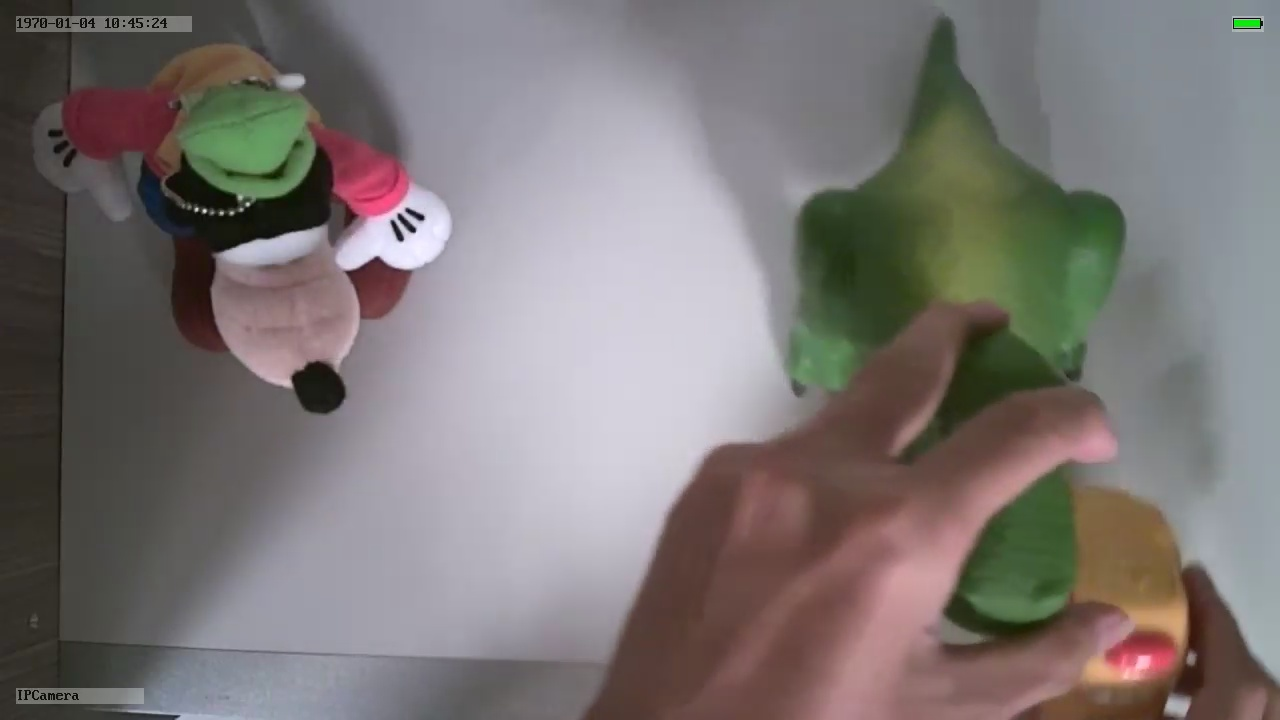goofy: (30, 44, 450, 419)
